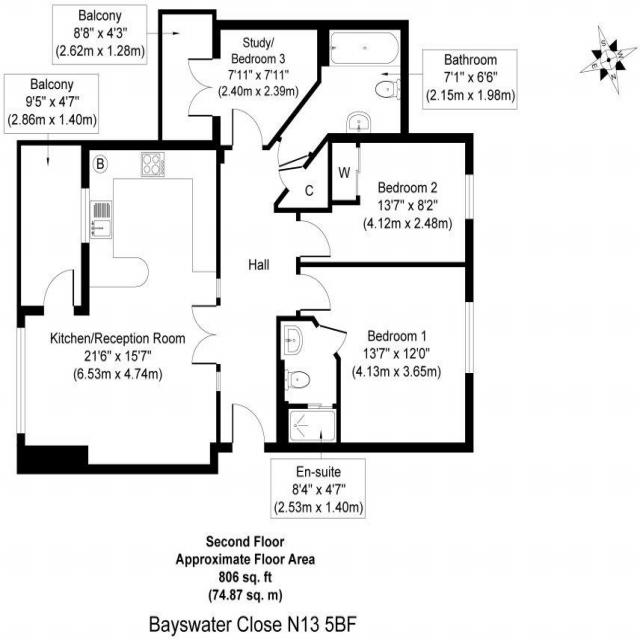DOOR: (231, 402, 266, 454), (42, 268, 76, 317), (295, 219, 333, 260), (295, 272, 332, 313), (231, 107, 265, 151), (314, 323, 349, 358)
DOUBLE DOOR: (186, 51, 222, 125)
ROOM: (16, 139, 225, 475), (296, 261, 474, 453), (296, 133, 474, 268), (187, 20, 330, 151)
WINDOW: (15, 327, 27, 436), (464, 300, 475, 376), (80, 187, 90, 244), (464, 173, 475, 220), (215, 370, 221, 393), (215, 277, 221, 299)
